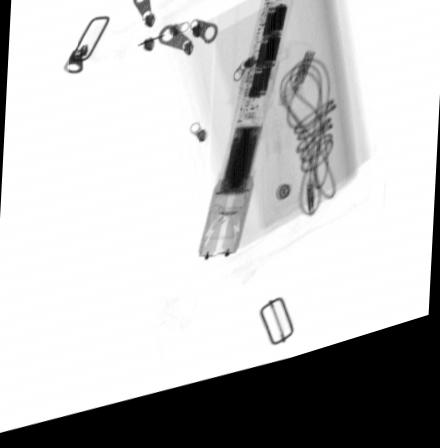Baton: (195, 0, 299, 275)
